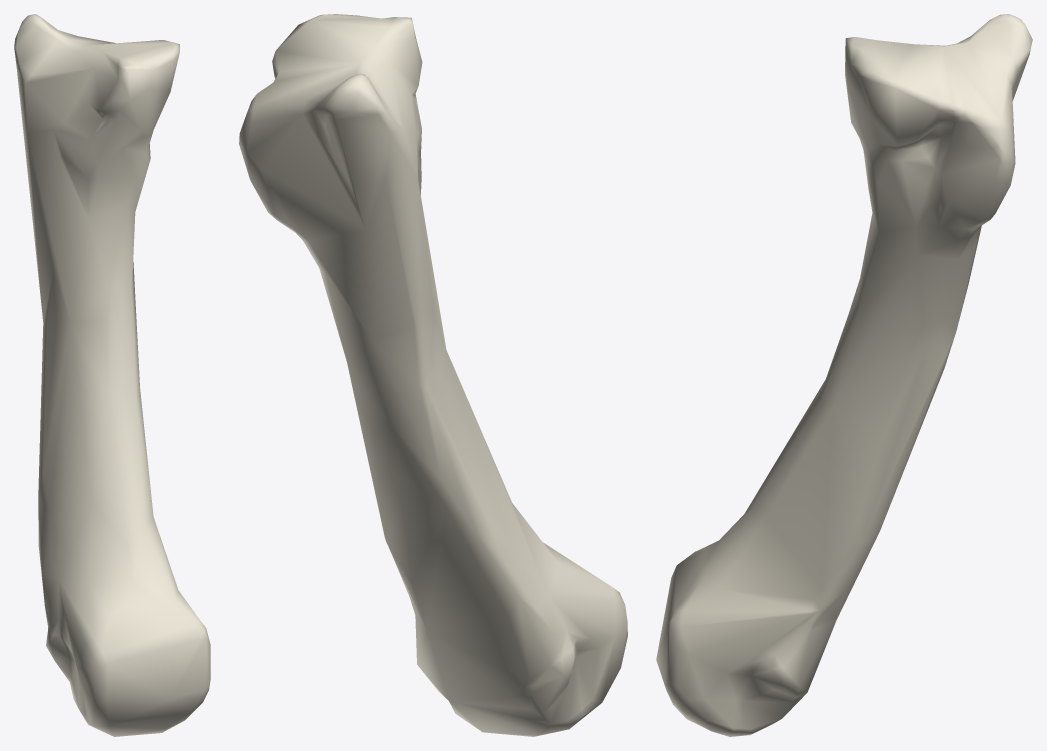
3 views of the same model, side by side, from view 1: azimuth 30°, elevation 25°; view 2: azimuth 150°, elevation 25°; view 3: azimuth 270°, elevation 25° (orthographic). The views are drawn at different scales.
Visible parts, largest first — view 1: ZA_a30ca0ea41b7498a; view 2: ZA_a30ca0ea41b7498a; view 3: ZA_a30ca0ea41b7498a.
Boxes of the visible parts, x1,y1,x2,y2 form: ZA_a30ca0ea41b7498a: (14, 14, 210, 736); ZA_a30ca0ea41b7498a: (239, 14, 627, 736); ZA_a30ca0ea41b7498a: (656, 14, 1032, 736).
Bounding box in the file's own units: 0.0208 × 0.0667 × 0.0317.
